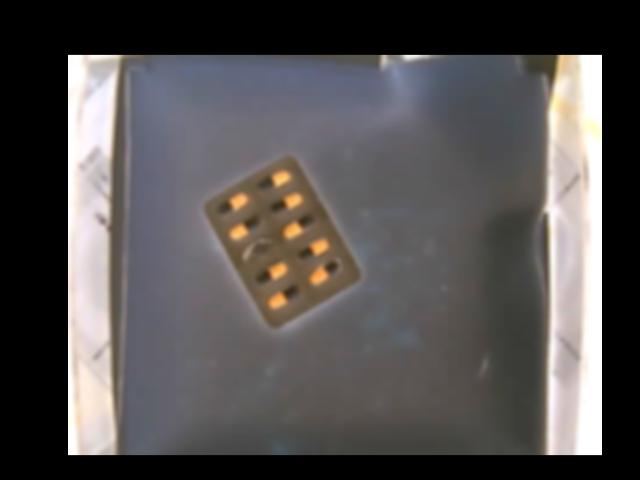Medicine: (200, 151, 361, 329)
